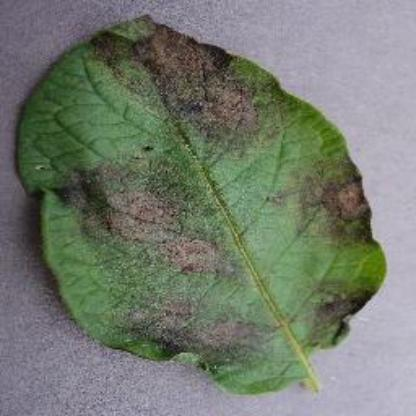Late-Blight: (17, 9, 390, 392)
